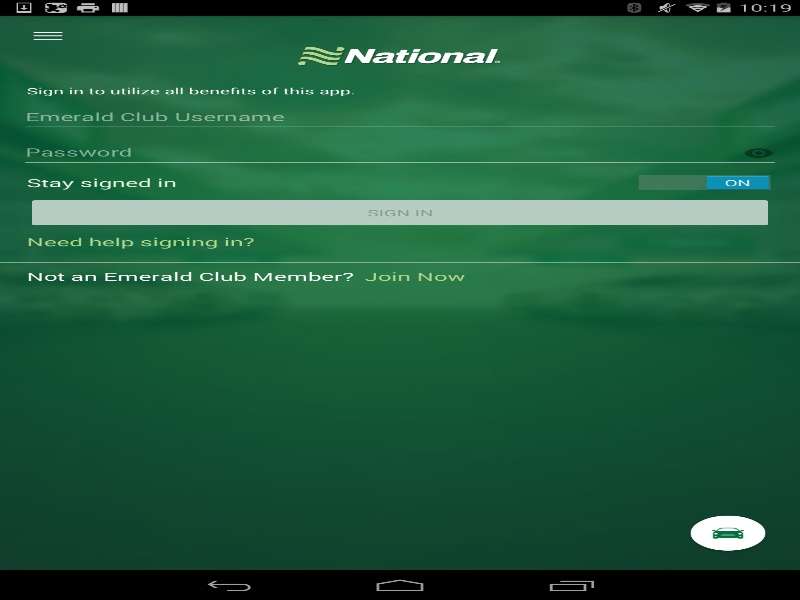Button: (26, 197, 773, 227), (677, 506, 778, 560), (10, 15, 85, 55), (737, 139, 780, 167)
Input: (20, 103, 780, 132), (20, 139, 780, 167)
